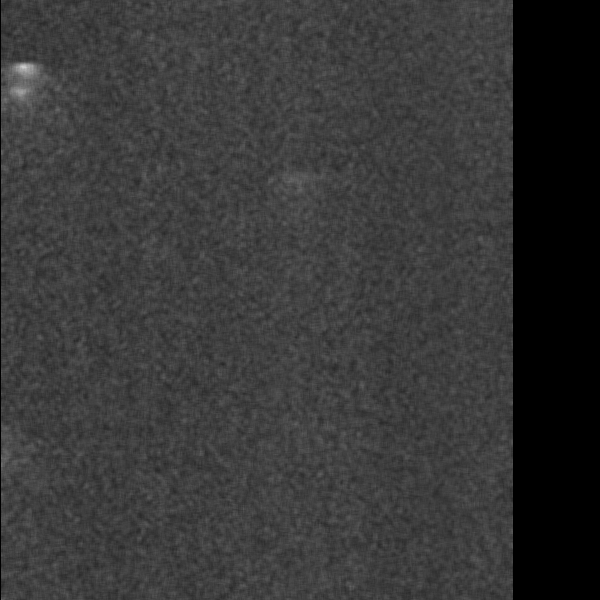spark: (5, 53, 43, 108), (275, 168, 311, 193)
